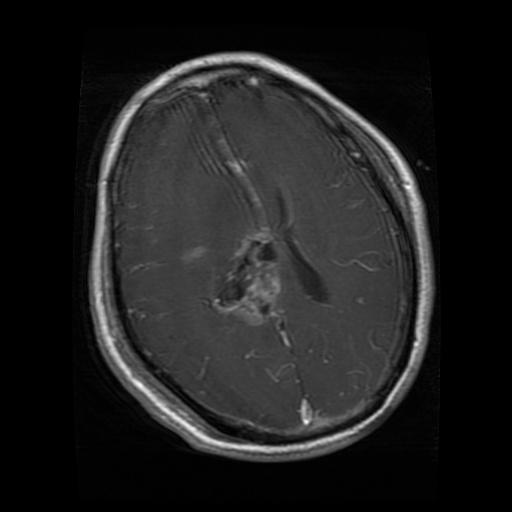glioma: (211, 227, 283, 325)
